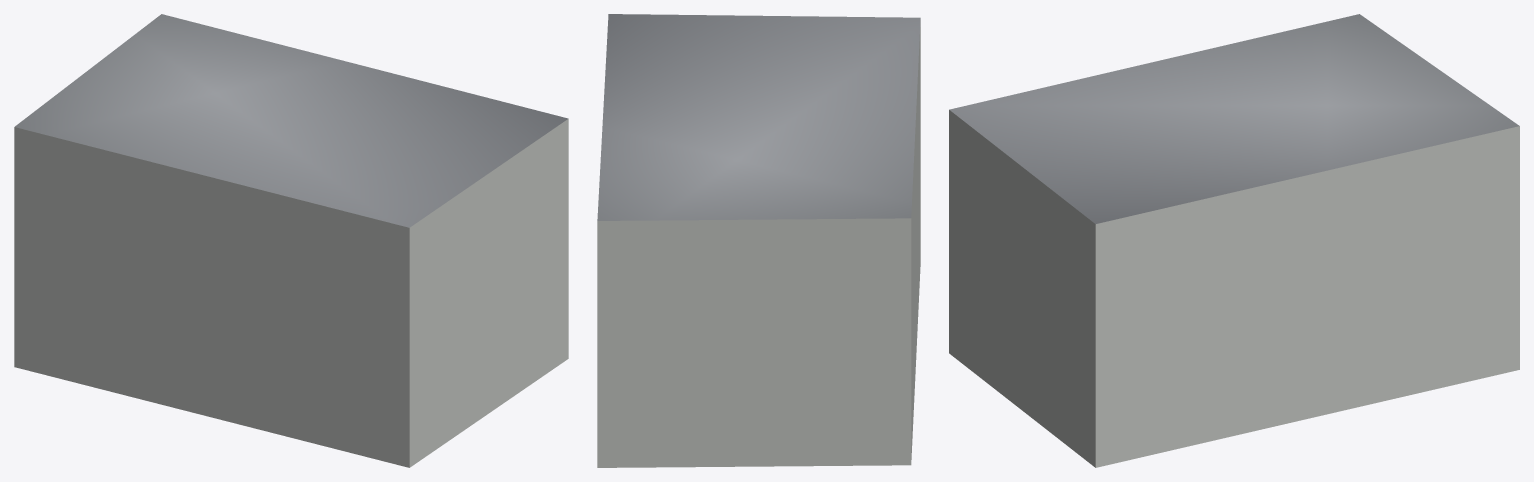
Rendered from LFSB_3_-3.glb.
3 renders of one model, left to right at view 1: azimuth 30°, elevation 25°; view 2: azimuth 150°, elevation 25°; view 3: azimuth 270°, elevation 25°, orthographic. The views are drawn at different scales.
Parts seen in each view (by area): view 1: building_BATIMENT0000000358878169; view 2: building_BATIMENT0000000358878169; view 3: building_BATIMENT0000000358878169.
Boxes of the visible parts, x1=… form: building_BATIMENT0000000358878169: x1=14, y1=14, x2=568, y2=467; building_BATIMENT0000000358878169: x1=597, y1=14, x2=920, y2=467; building_BATIMENT0000000358878169: x1=949, y1=14, x2=1519, y2=467.
Bounding box in the file's own units: 7.4 × 4 × 8.49.
Materials: 2 (1 with a texture image).
